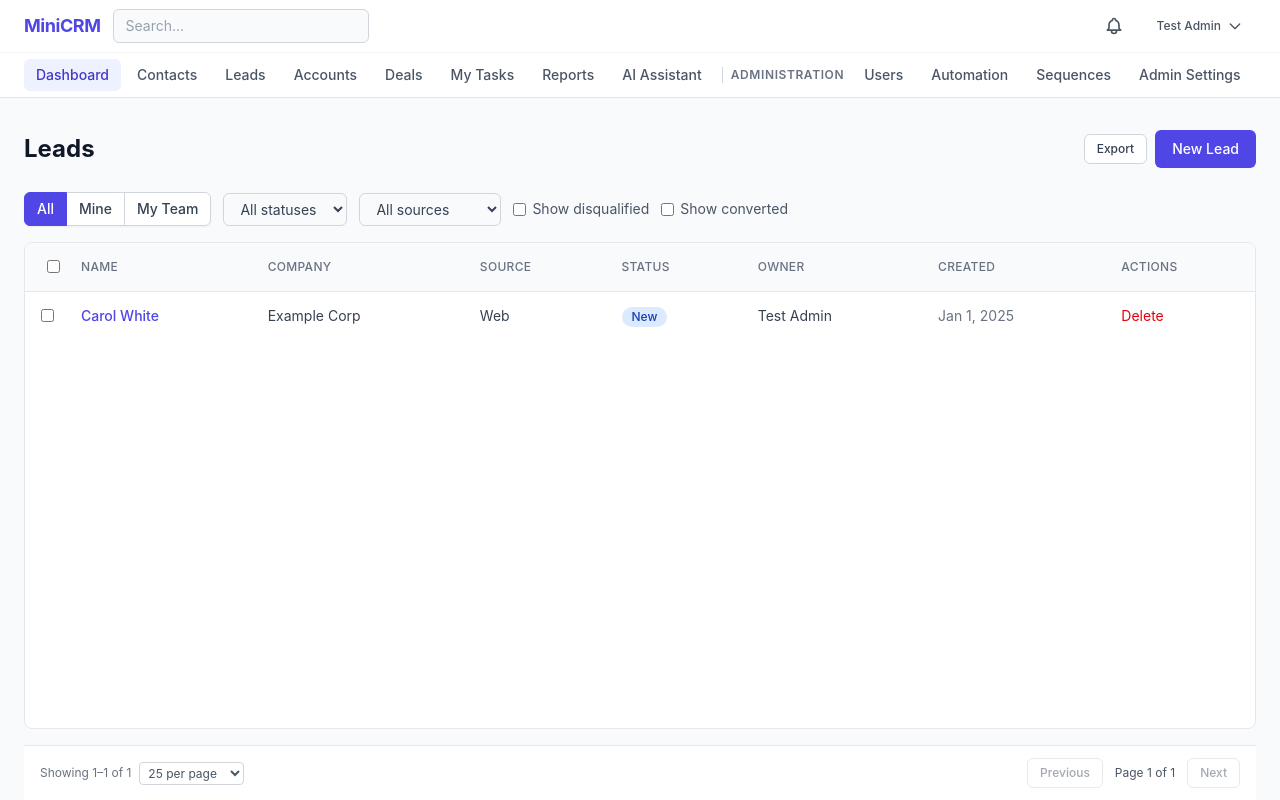
LeadsPage › shows the create form when New Lead is clicked
Click the button with test id "new-lead-button": point(1206, 149) [1155,130,1256,168]
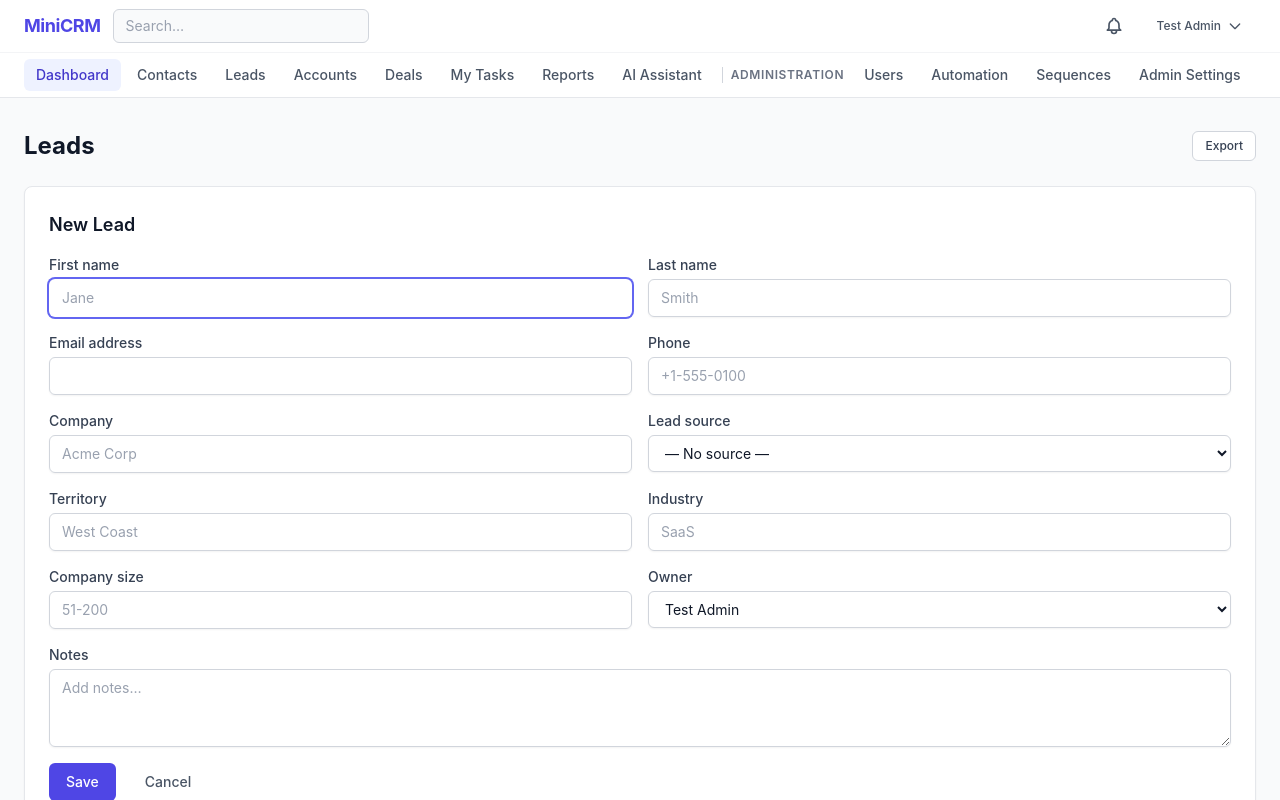
Expected: the form with test id "lead-form" is shown
